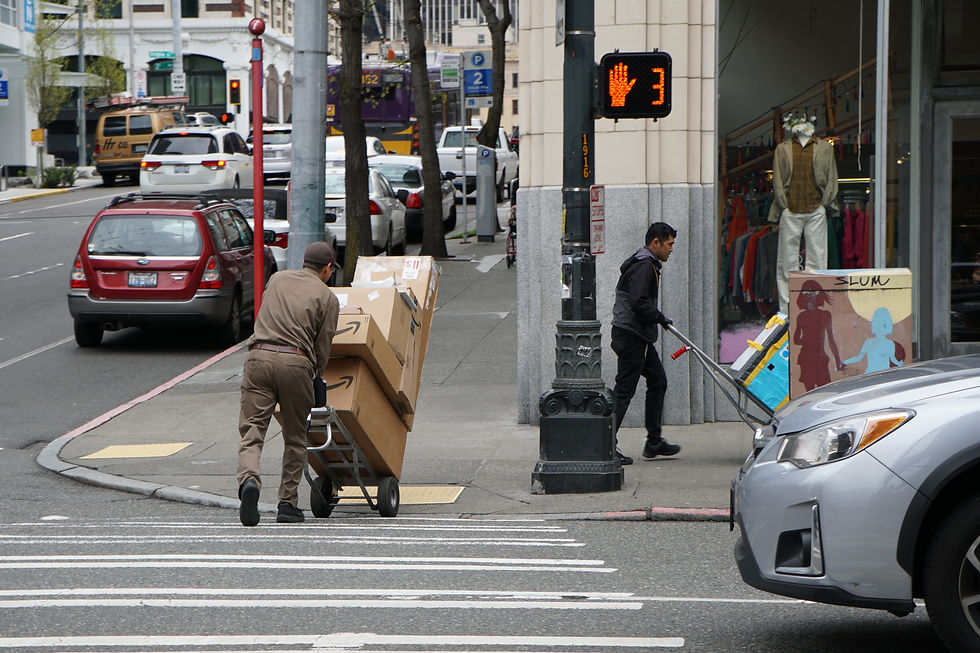Car: (723, 347, 980, 651), (65, 179, 267, 333), (124, 118, 256, 200), (417, 120, 534, 194)
DeliveryBox: (327, 243, 441, 508), (775, 252, 910, 380)
Person: (237, 238, 326, 519), (602, 213, 698, 469)
